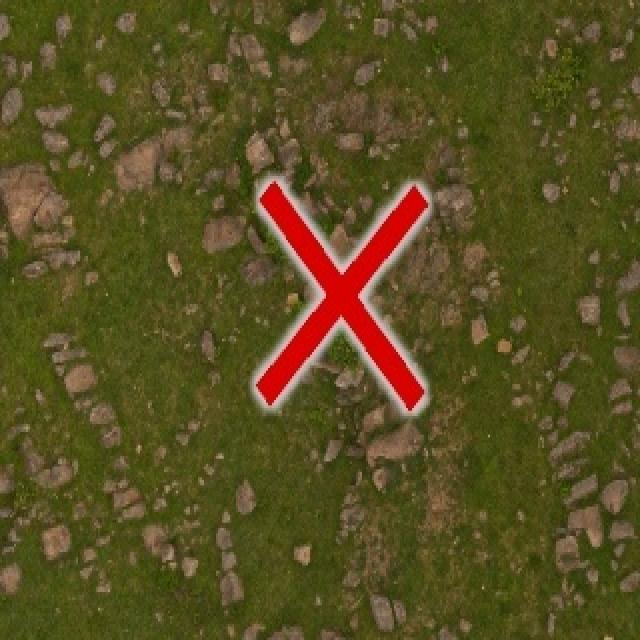x_marker: (255, 180, 427, 409)
